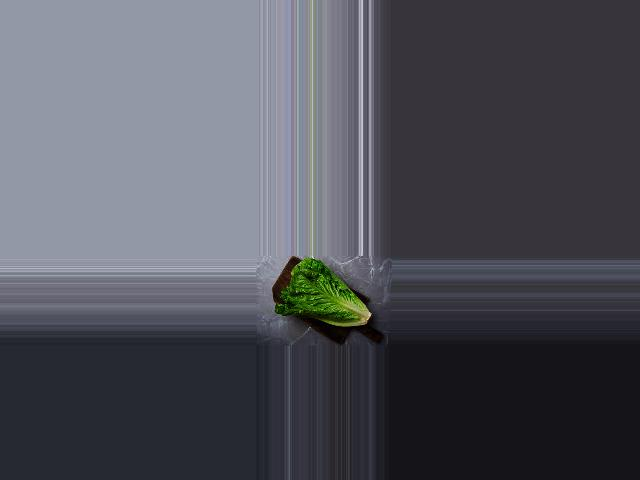lettuce: (275, 258, 375, 337)
